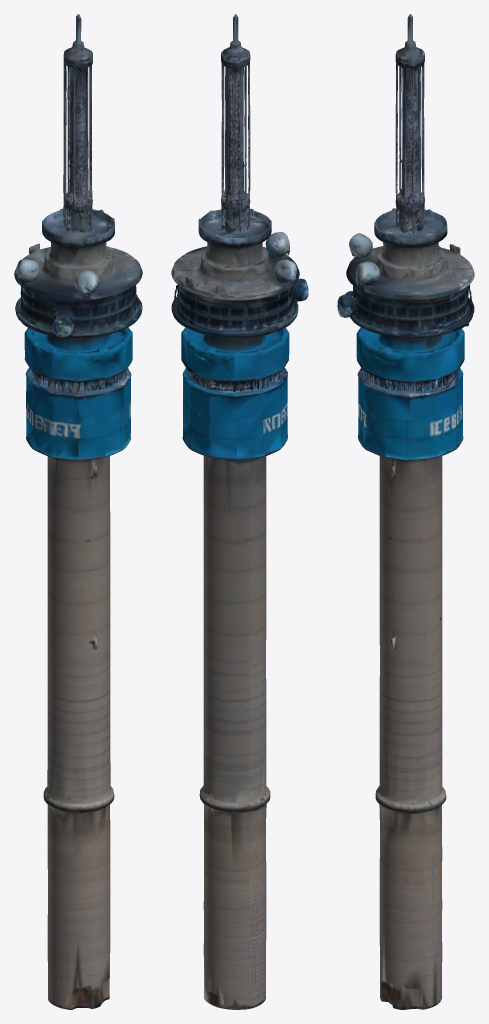
Rendered from TelkomTower.glb.
3 renders of one model, left to right at view 1: azimuth 30°, elevation 25°; view 2: azimuth 150°, elevation 25°; view 3: azimuth 330°, elevation 25°, orthographic.
Parts seen in each view (by area): view 1: node_0; view 2: node_0; view 3: node_0.
Part boxes in pixels (bbox=[...]): node_0: bbox=[14, 14, 142, 1009]; node_0: bbox=[171, 14, 308, 1009]; node_0: bbox=[337, 14, 474, 1009].
Bounding box in the file's own units: 0.1521 × 1.2 × 0.1388.
Materials: 1 (1 with a texture image).
